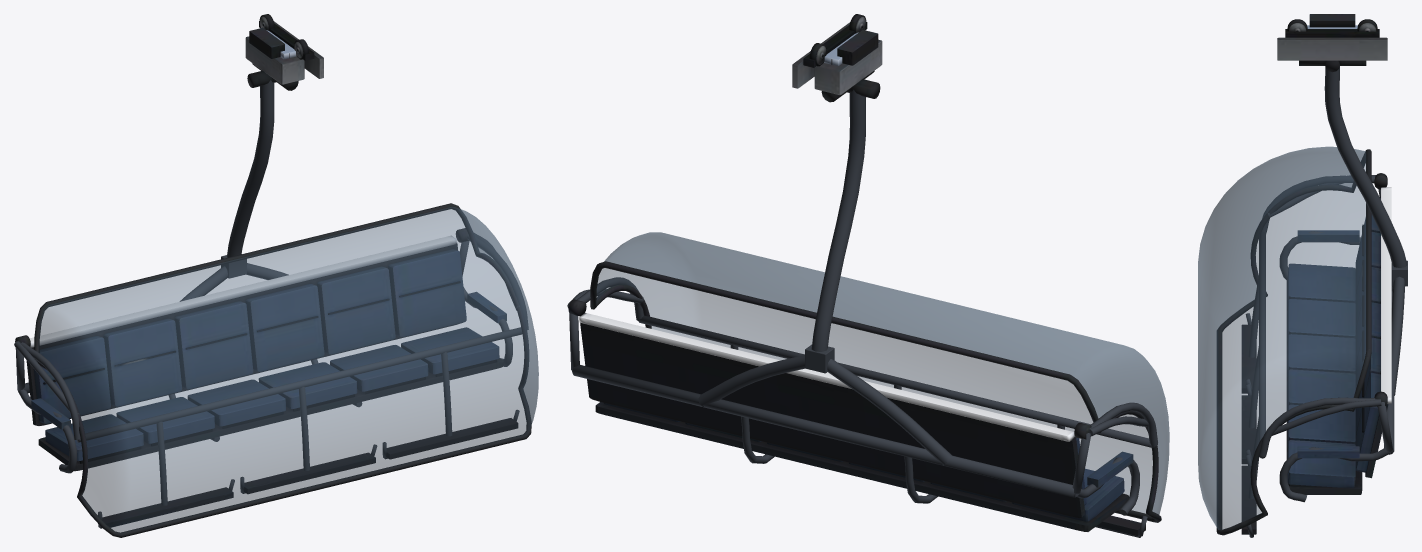
Rendered from chair6_bubble.glb.
3 views of the same model, side by side, from view 1: azimuth 30°, elevation 25°; view 2: azimuth 150°, elevation 25°; view 3: azimuth 270°, elevation 25° (orthographic). The views are drawn at different scales.
Parts seen in each view (by area): view 1: chair6_bubble_glass, chair6_bubble, chair6_bubble_paint, chair6_bubble_snow; view 2: chair6_bubble, chair6_bubble_glass, chair6_bubble_paint, chair6_bubble_snow; view 3: chair6_bubble_glass, chair6_bubble, chair6_bubble_paint, chair6_bubble_snow.
Boxes of the visible parts, box(x1,y1,x2,y2) form: chair6_bubble_glass: box(38, 207, 538, 533); chair6_bubble: box(15, 14, 531, 537); chair6_bubble_paint: box(14, 80, 528, 528); chair6_bubble_snow: box(29, 30, 456, 347); chair6_bubble: box(568, 14, 1161, 535); chair6_bubble_glass: box(596, 232, 1169, 514); chair6_bubble_paint: box(567, 89, 1157, 537); chair6_bubble_snow: box(579, 32, 1075, 441); chair6_bubble_glass: box(1198, 146, 1365, 530); chair6_bubble: box(1216, 14, 1388, 535); chair6_bubble_paint: box(1245, 66, 1407, 537); chair6_bubble_snow: box(1307, 25, 1391, 403).
Bounding box in the file's own units: 4.05 × 3.47 × 1.56.
4 materials, 1 textured.
